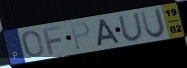A: (96, 18, 122, 48)
F: (41, 25, 63, 57)
O: (21, 30, 46, 59)
P: (69, 21, 91, 53)
U: (138, 6, 168, 40), (117, 11, 146, 42)
